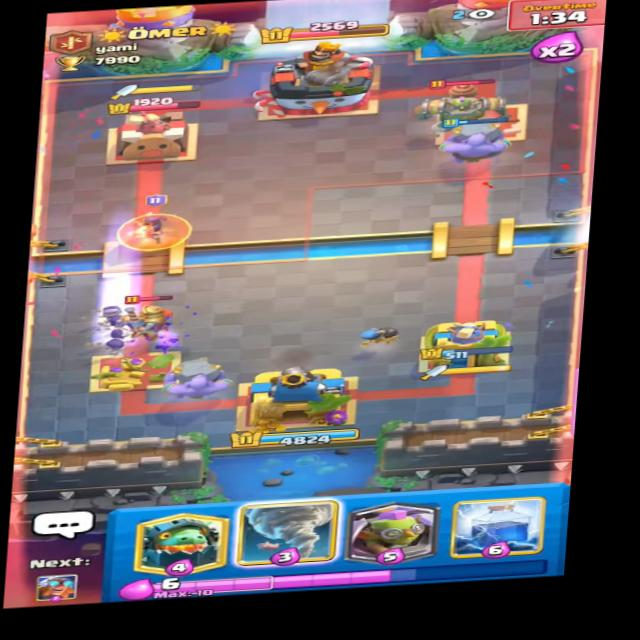evo-wizard: (114, 191, 200, 254)
goblin-machine: (405, 77, 509, 149)
prince: (116, 292, 176, 354)
